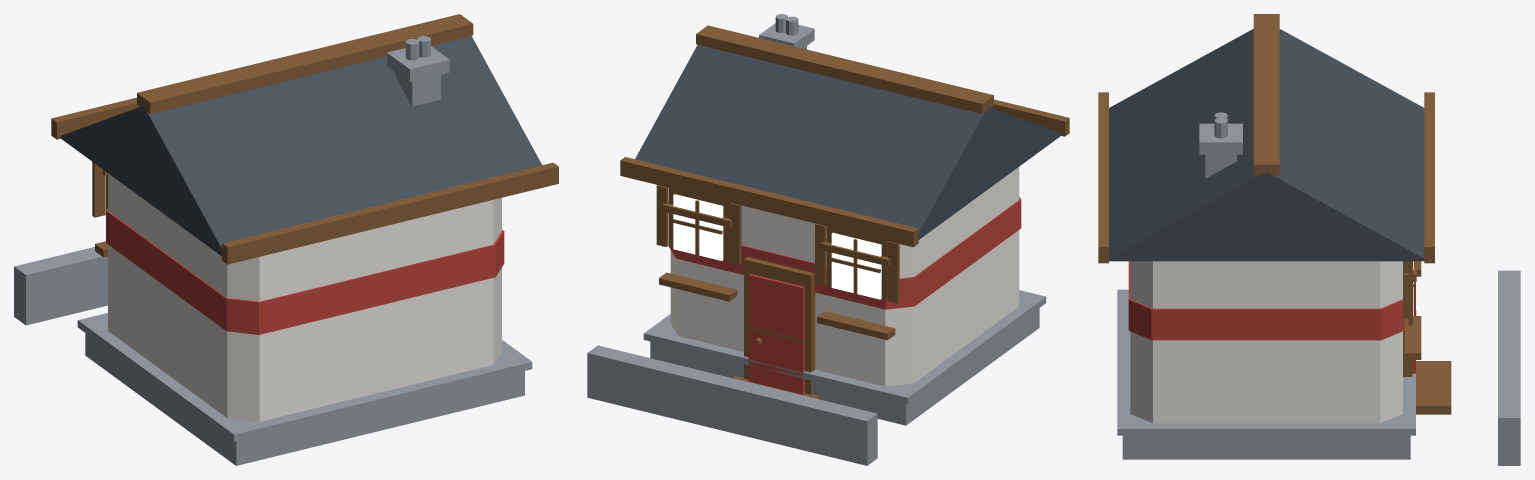
The model's file is xy_house_lightkeeper.glb.
The picture shows the model from 3 angles, left to right: view 1: azimuth 30°, elevation 25°; view 2: azimuth 150°, elevation 25°; view 3: azimuth 270°, elevation 25°; orthographic projection. The views are drawn at different scales.
Parts seen in each view (by area): view 1: House; view 2: House; view 3: House.
Part boxes in pixels (<box>): House: <box>14,14,558,465</box>; House: <box>587,14,1069,465</box>; House: <box>1098,14,1520,465</box>.
Bounding box in the file's own units: 4.82 × 4.6 × 5.57.
